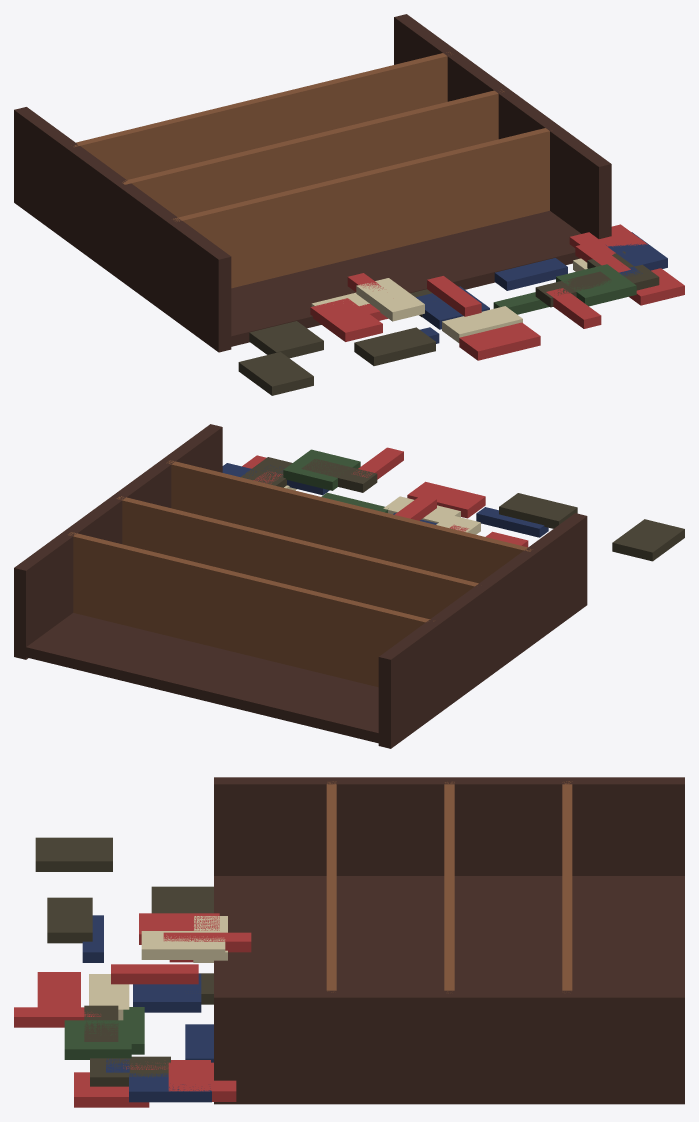
Rendered from archive_shelf_fallen.glb.
3 renders of one model, top to bottom at view 1: azimuth 30°, elevation 25°; view 2: azimuth 150°, elevation 25°; view 3: azimuth 270°, elevation 25°, orthographic. The views are drawn at different scales.
Parts seen in each view (by area): view 1: back; view 2: back; view 3: back.
Part boxes in pixels (x1,y1,x2,y2): back: (14, 14, 684, 395); back: (14, 424, 684, 748); back: (14, 777, 684, 1107).
Bounding box in the file's own units: 3.45 × 0.7 × 3.99.
